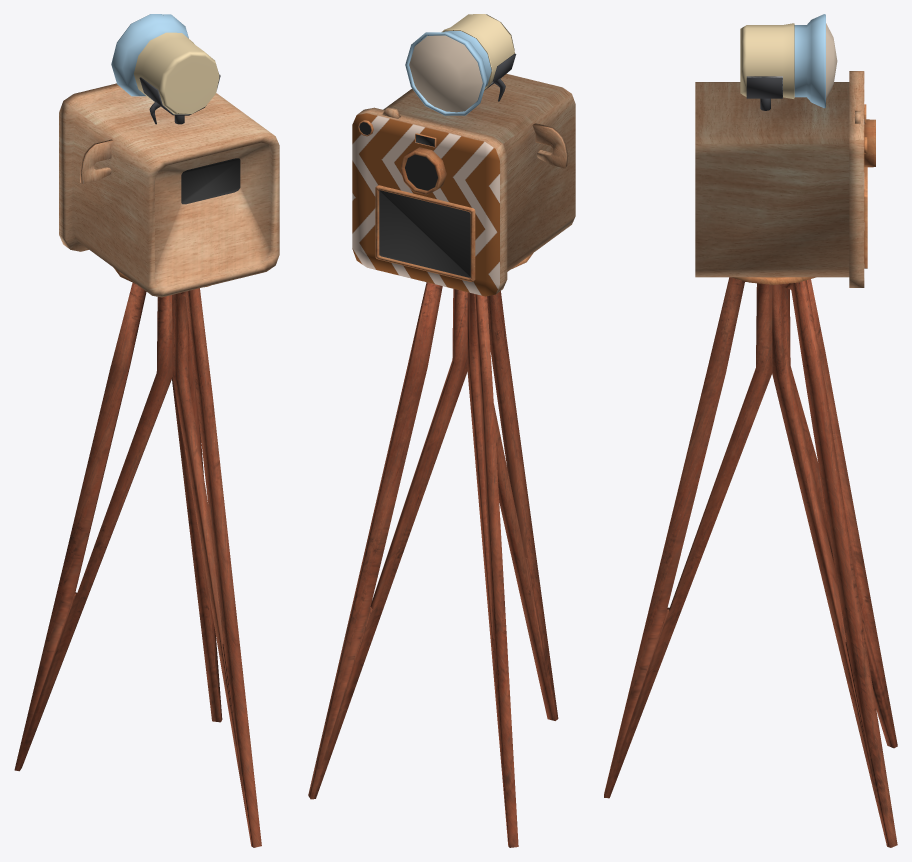
The model's file is camera.fbx.
The picture shows the model from 3 angles, left to right: view 1: azimuth 30°, elevation 25°; view 2: azimuth 150°, elevation 25°; view 3: azimuth 270°, elevation 25°; orthographic projection. The views are drawn at different scales.
Parts seen in each view (by area): view 1: camera; view 2: camera; view 3: camera.
Part boxes in pixels (left/top/right/bottom): camera: left=14, top=14, right=279, bottom=847; camera: left=308, top=14, right=575, bottom=847; camera: left=604, top=14, right=897, bottom=847.
Size of the model in its own units: 2.68 by 9.32 by 3.19.
Materials: 1 (1 with a texture image).
